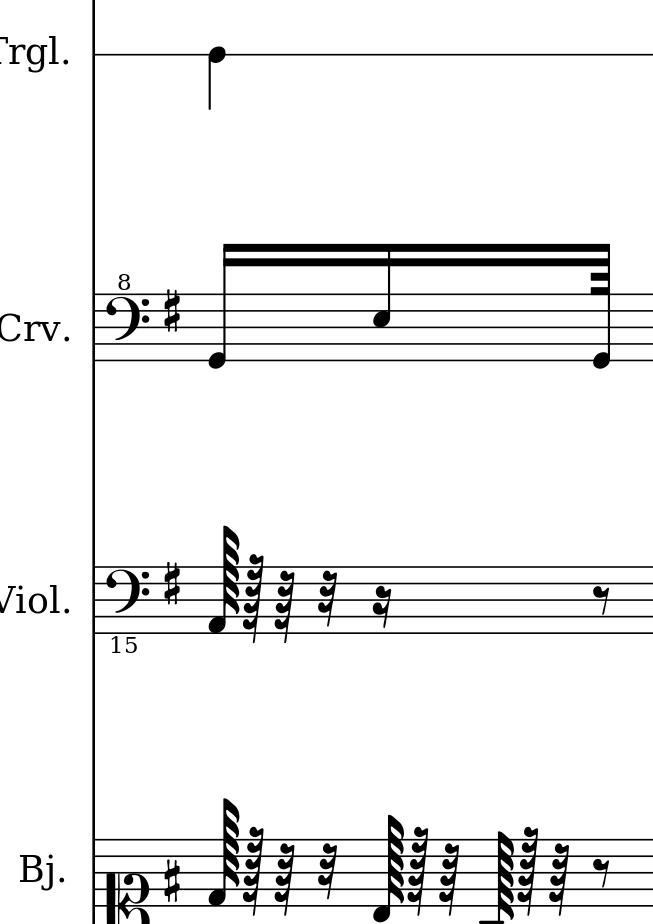128_-1: (369, 814, 403, 923)
128_1: (208, 525, 242, 634), (206, 798, 240, 907)
16_0: (203, 242, 236, 370)
3: (117, 272, 131, 292), (115, 270, 129, 290)
4_4: (206, 44, 226, 112)
64_0: (591, 242, 611, 371)
8_5: (371, 242, 392, 365)
DLower_Fclef: (103, 565, 151, 654)
High_Fclef: (104, 274, 152, 362)
Rests128: (241, 553, 267, 643), (240, 825, 266, 915), (406, 824, 432, 914), (516, 827, 542, 917)
Rests16: (371, 584, 393, 631)
Rests32: (315, 842, 338, 902), (316, 569, 338, 629)
Rests64: (274, 569, 296, 644), (274, 842, 296, 917), (437, 841, 459, 916), (548, 842, 570, 917)
Rests8: (589, 856, 614, 892), (591, 583, 614, 616)
Sharp: (158, 559, 184, 610), (159, 286, 184, 337), (160, 857, 183, 906)
Single_barline: (87, 839, 102, 910), (88, 293, 103, 363), (88, 567, 102, 633)
